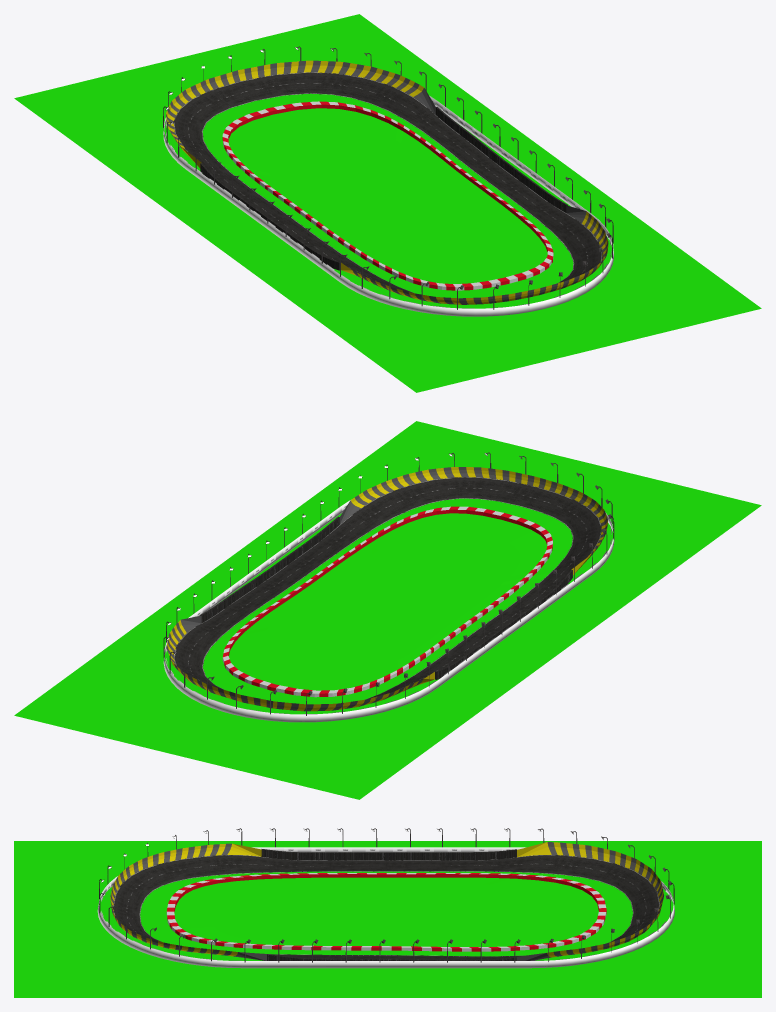
Rendered from nascar_circuit_rework.glb.
The picture shows the model from 3 angles, top to bottom: view 1: azimuth 30°, elevation 25°; view 2: azimuth 150°, elevation 25°; view 3: azimuth 270°, elevation 25°; orthographic projection. The views are drawn at different scales.
Parts seen in each view (by area): view 1: cesped, pista, Object_7, Object_6; view 2: cesped, pista, Object_7, Object_6; view 3: pista, cesped, Object_7, Object_6.
Part boxes in pixels (bbox=[...]): cesped: bbox=[14, 14, 761, 392]; pista: bbox=[166, 60, 608, 304]; Object_7: bbox=[163, 95, 613, 316]; Object_6: bbox=[163, 46, 613, 309]; cesped: bbox=[14, 421, 761, 799]; pista: bbox=[166, 467, 607, 711]; Object_7: bbox=[163, 500, 614, 722]; Object_6: bbox=[163, 452, 614, 715]; pista: bbox=[110, 842, 663, 960]; cesped: bbox=[14, 841, 761, 997]; Object_7: bbox=[97, 847, 674, 968]; Object_6: bbox=[99, 828, 674, 962].
Size of the model in its own units: 248 by 25.78 by 501.
9 materials, 2 textured.
